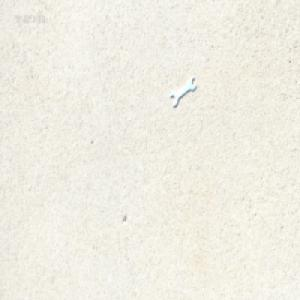Wrench: (171, 76, 196, 107)
